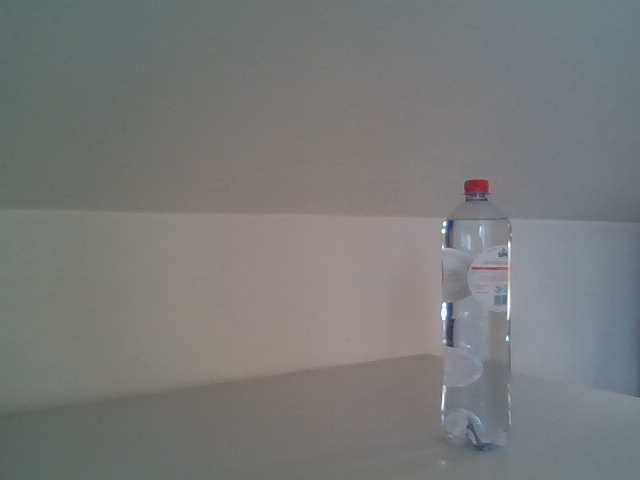bottle: (440, 179, 513, 452)
